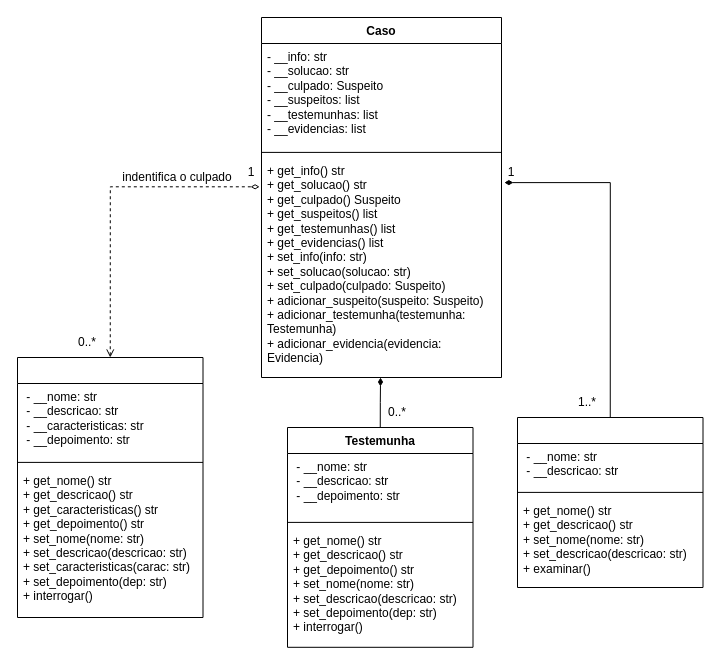
Image size: 721x668. Some labels were removed from this diagram. Each missing label, with the box of its shape:
Evidencia: (516, 416, 703, 588)
Suspeito: (16, 356, 203, 618)
